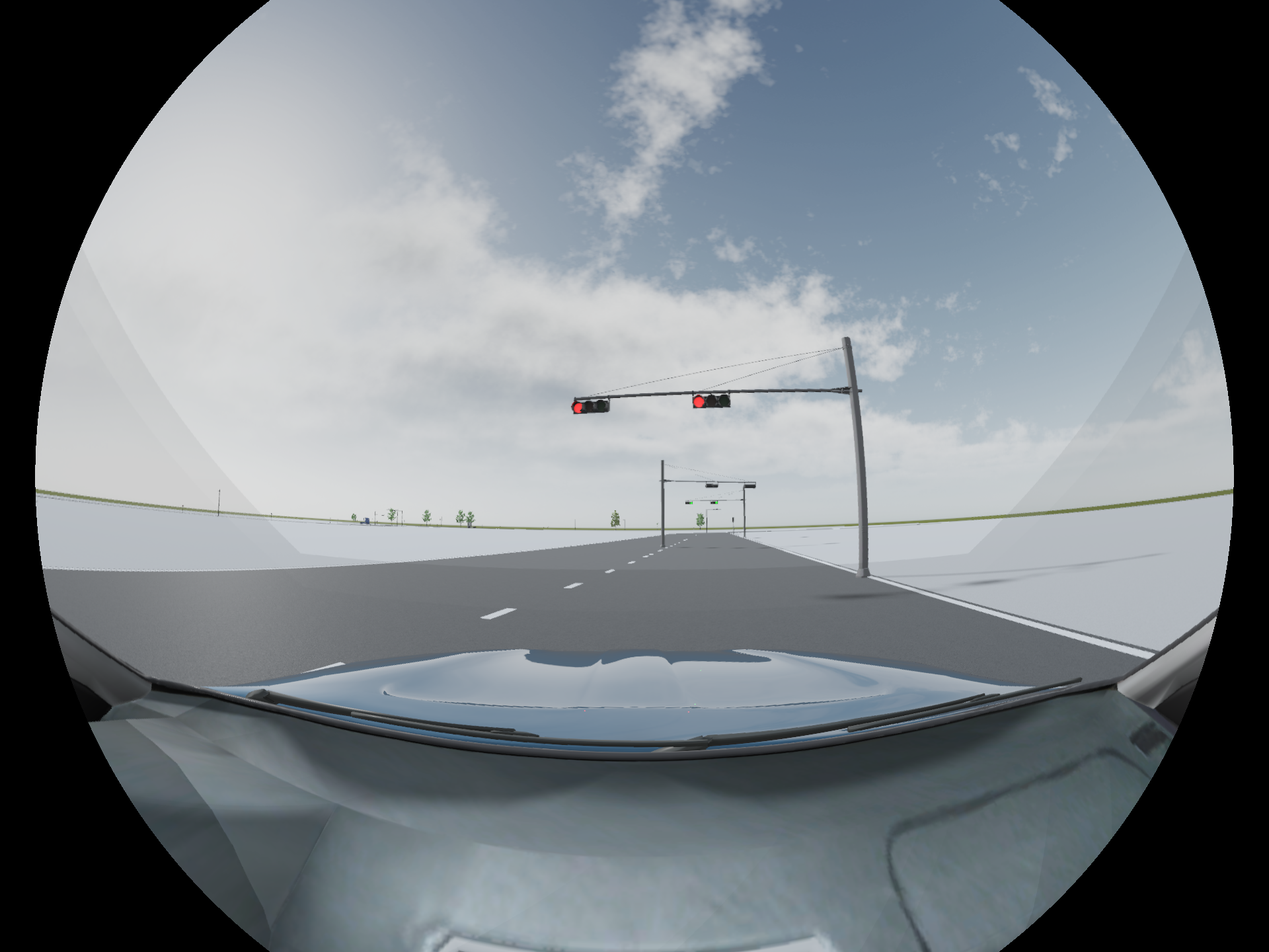Red Light: (571, 396, 610, 415), (692, 392, 732, 410)
